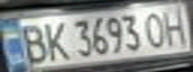3: (69, 16, 93, 58), (121, 11, 145, 52)
6: (90, 14, 109, 56)
9: (106, 14, 127, 54)
B: (15, 20, 51, 64)
H: (157, 6, 193, 46)
K: (39, 18, 72, 62)
O: (139, 8, 172, 48)
